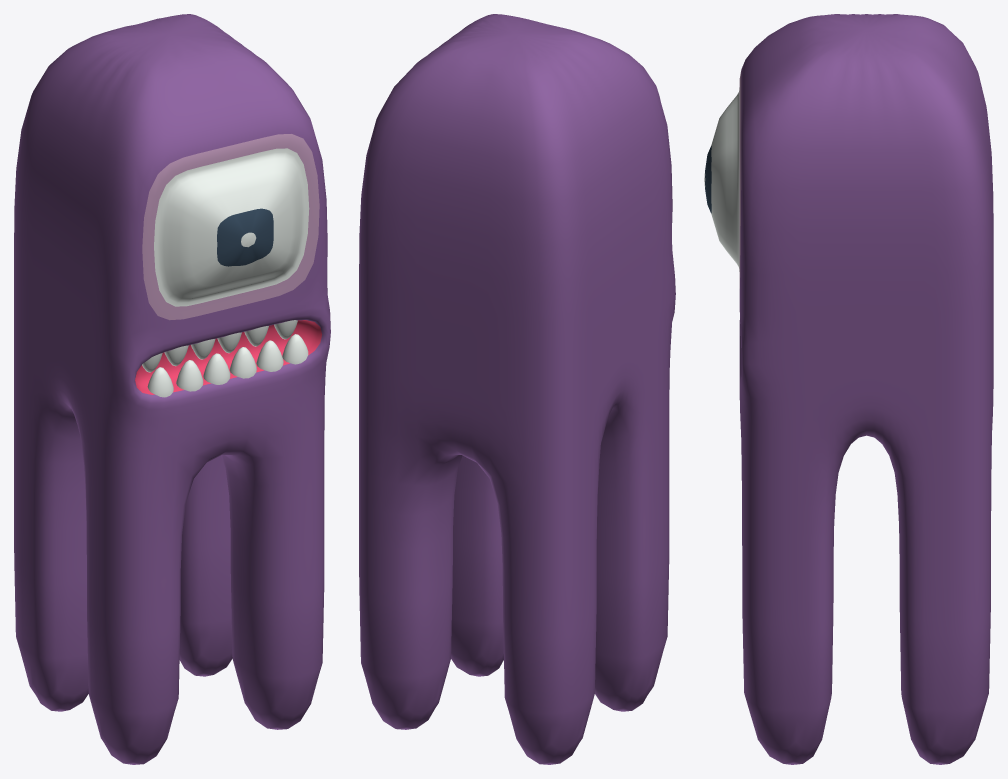
The model's file is bad_alien.fbx.
The picture shows the model from 3 angles, left to right: view 1: azimuth 30°, elevation 25°; view 2: azimuth 150°, elevation 25°; view 3: azimuth 270°, elevation 25°; orthographic projection.
Parts seen in each view (by area): view 1: BadAlien; view 2: BadAlien; view 3: BadAlien.
Boxes of the visible parts, x1,y1,x2,y2 form: BadAlien: (14, 14, 330, 764); BadAlien: (359, 14, 675, 764); BadAlien: (704, 14, 993, 764).
Size of the model in its own units: 375 by 1141 by 427.
